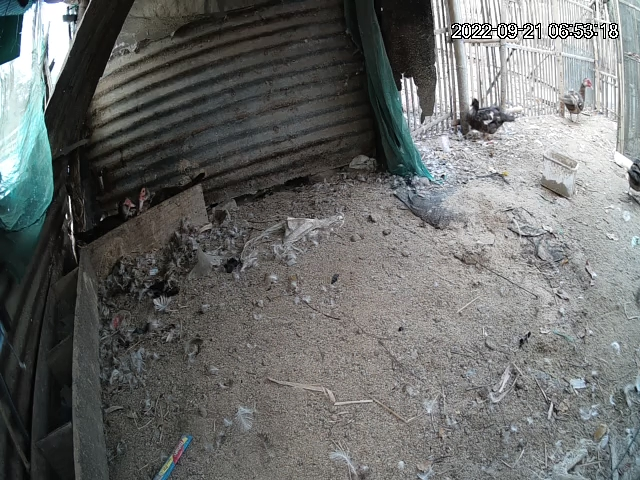Mengeram: (83, 174, 207, 256)
